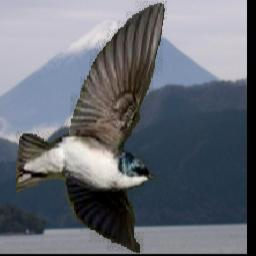Swallow: (15, 2, 166, 254)
